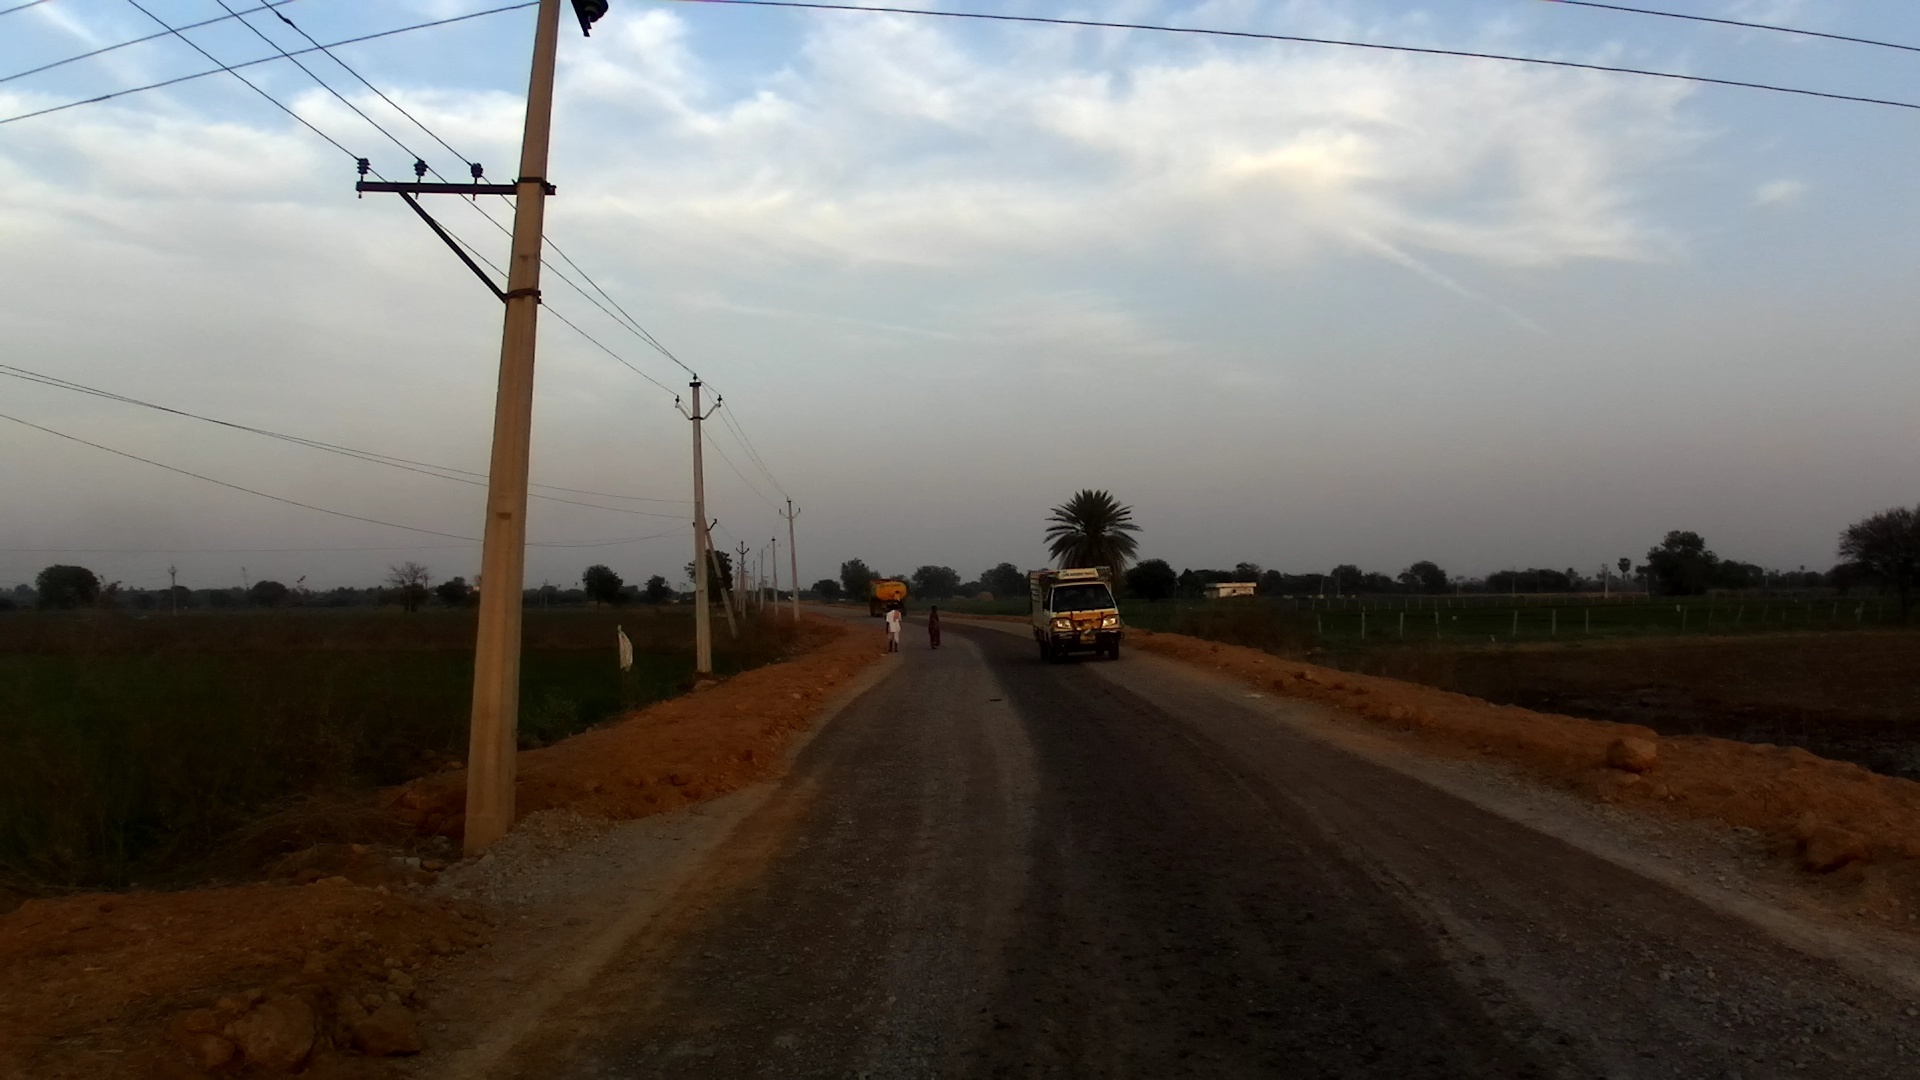person: (924, 604, 948, 654), (883, 600, 904, 654)
truck: (1026, 566, 1127, 662), (868, 577, 913, 621)
